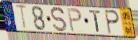8: (31, 6, 47, 32)
P: (104, 9, 121, 36), (66, 7, 83, 33)
S: (50, 6, 68, 33)
T: (15, 4, 29, 32), (89, 10, 102, 34)
